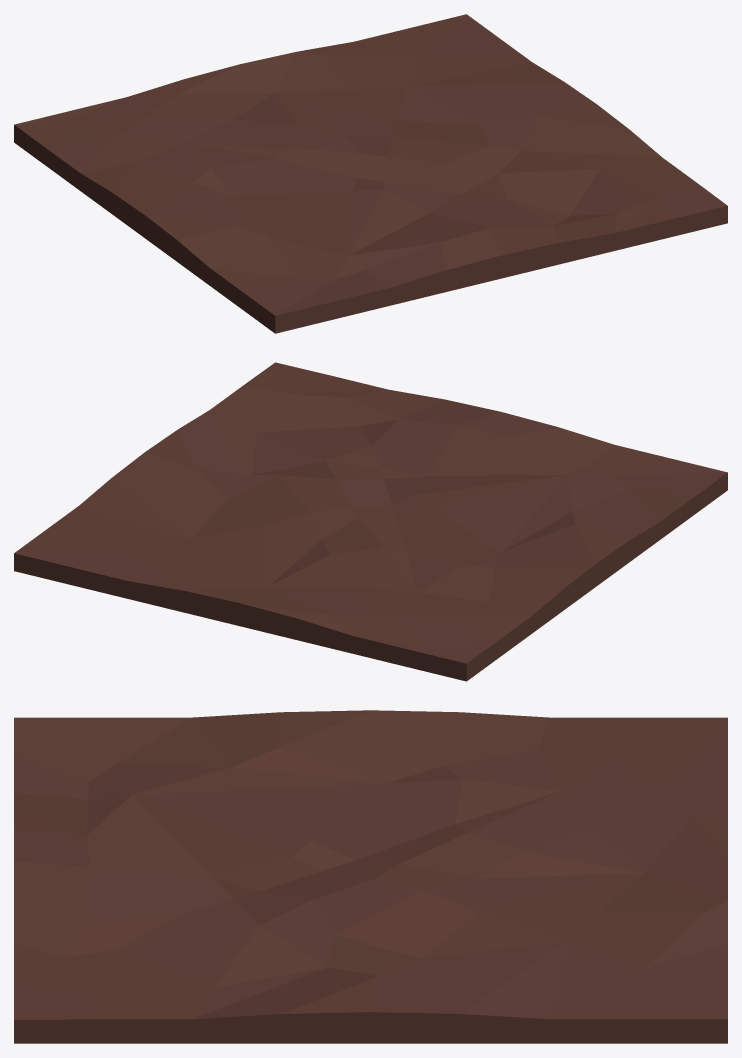
The model's file is Mud.FBX.
The picture shows the model from 3 angles, top to bottom: view 1: azimuth 30°, elevation 25°; view 2: azimuth 150°, elevation 25°; view 3: azimuth 270°, elevation 25°; orthographic projection. The views are drawn at different scales.
Parts seen in each view (by area): view 1: Mud; view 2: Mud; view 3: Mud.
Boxes of the visible parts, x1,y1,x2,y2 form: Mud: (14,14,727,333); Mud: (14,362,727,681); Mud: (14,710,727,1043).
Bounding box in the file's own units: 1.5 × 0.0837 × 1.5.
Materials: 1 (1 with a texture image).
